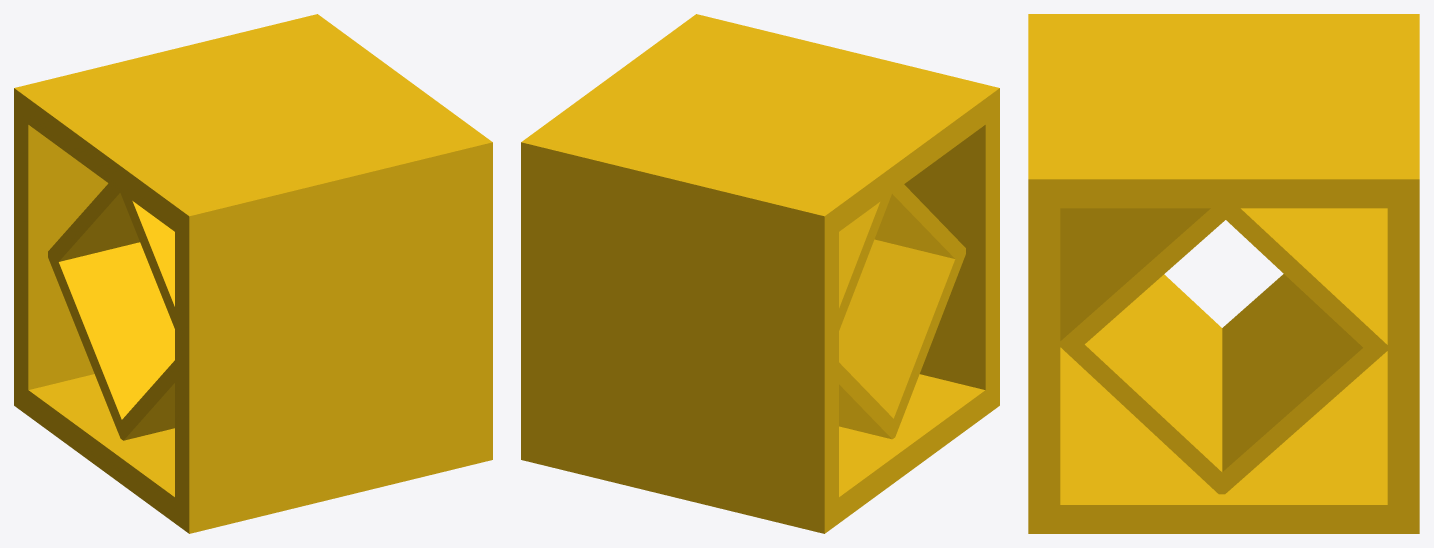
The picture shows the model from 3 angles, left to right: view 1: azimuth 30°, elevation 25°; view 2: azimuth 150°, elevation 25°; view 3: azimuth 270°, elevation 25°; orthographic projection. The views are drawn at different scales.
Visible parts, largest first — view 1: 立方体; view 2: 立方体; view 3: 立方体.
Part boxes in pixels (box(x1,y1,x2,y2)): 立方体: box(14, 14, 492, 533); 立方体: box(521, 14, 999, 533); 立方体: box(1028, 14, 1419, 533).
Size of the model in its own units: 2 by 2 by 2.
